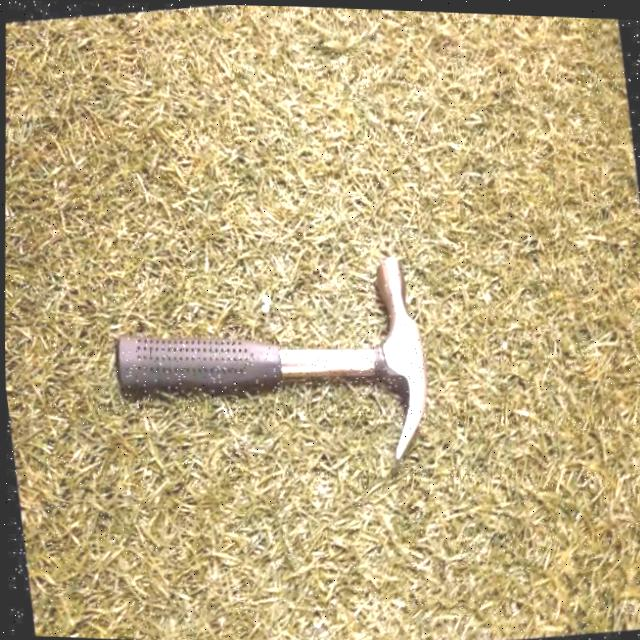hammer: (112, 245, 429, 456)
